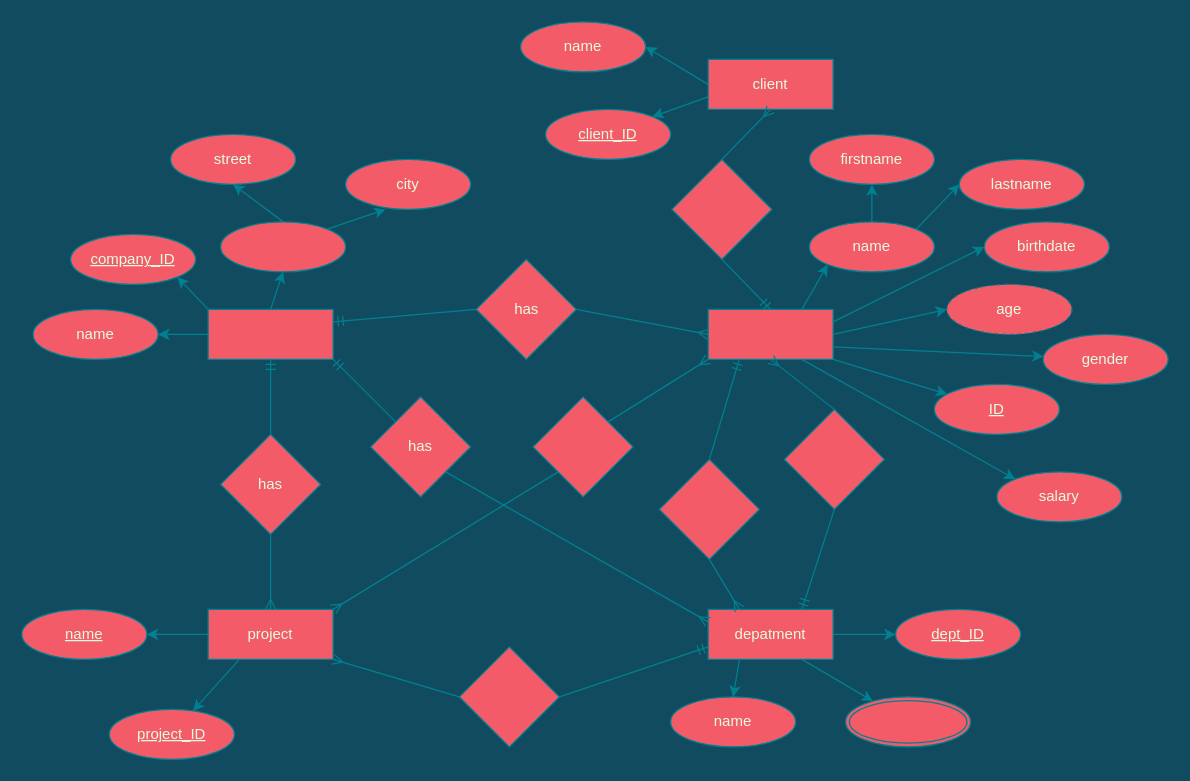
The diagram is 1190 pixels wide and 781 high, and some of its shapes have lost their labels. Each missing label, with the centre of its shape:
address: the point at 282,246
company: the point at 270,333
controls: the point at 508,696
employee: the point at 770,333
location: the point at 907,721
manage: the point at 708,508
work for: the point at 833,458
work on: the point at 582,446
work with: the point at 721,208
